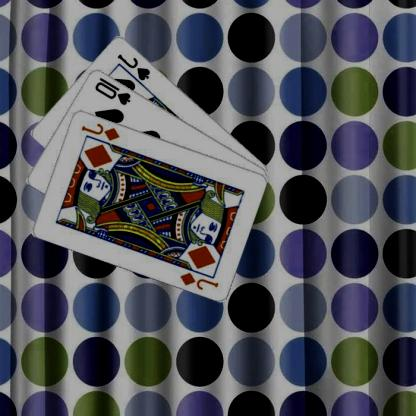10S: (94, 74, 134, 107)
JD: (80, 120, 122, 142), (179, 269, 221, 291)
JS: (116, 51, 154, 82)
